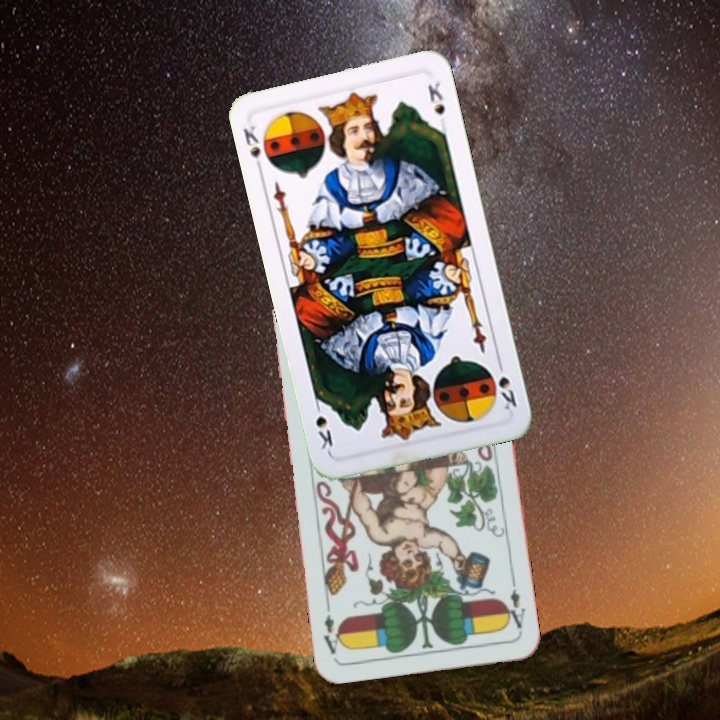EA: (500, 575, 528, 631)
SK: (493, 355, 520, 413), (239, 121, 266, 175)
